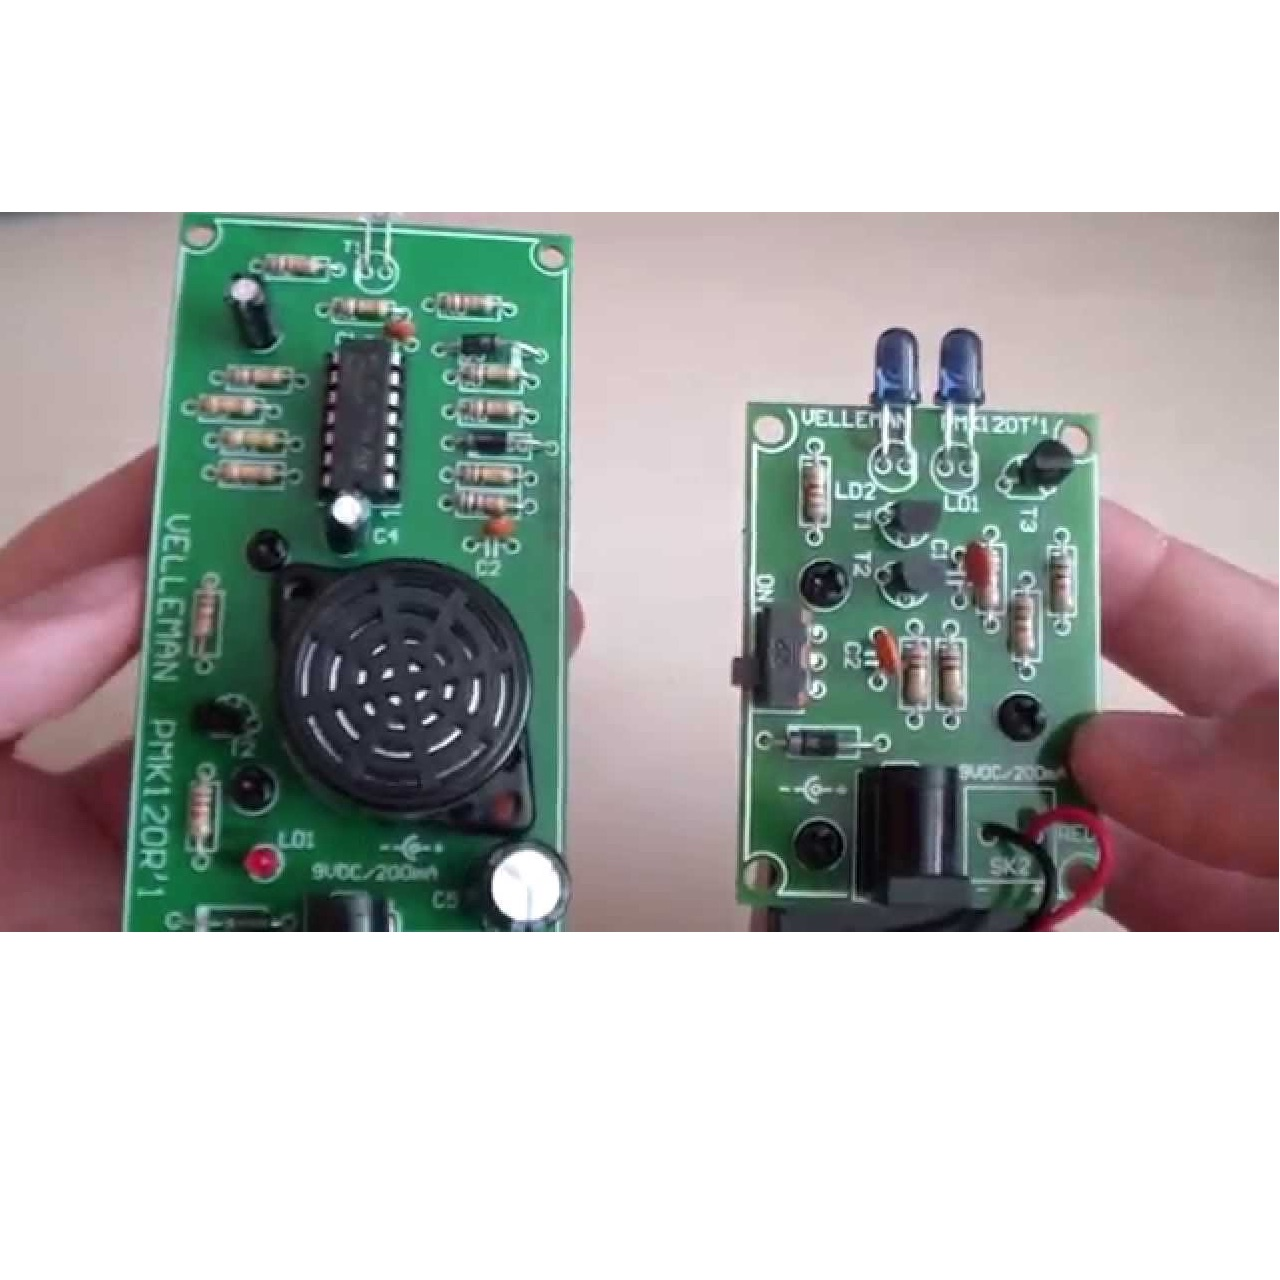Capacitor: (467, 836, 576, 934), (223, 268, 282, 350)
Diode: (785, 727, 843, 762), (458, 425, 523, 455), (454, 331, 503, 358), (218, 912, 278, 933)
LED: (932, 324, 994, 410), (867, 325, 925, 407), (241, 845, 284, 881)
Resistor: (938, 639, 968, 708), (1049, 550, 1080, 617), (448, 488, 523, 515), (799, 459, 830, 525), (452, 462, 525, 489), (903, 640, 932, 707), (185, 779, 216, 843), (981, 549, 1009, 614), (435, 290, 503, 316), (459, 359, 522, 388), (458, 396, 527, 422), (222, 425, 290, 451), (215, 459, 285, 484), (1013, 595, 1039, 660), (225, 365, 291, 389), (195, 393, 263, 416), (191, 587, 218, 646), (261, 254, 325, 279), (333, 295, 394, 320)
